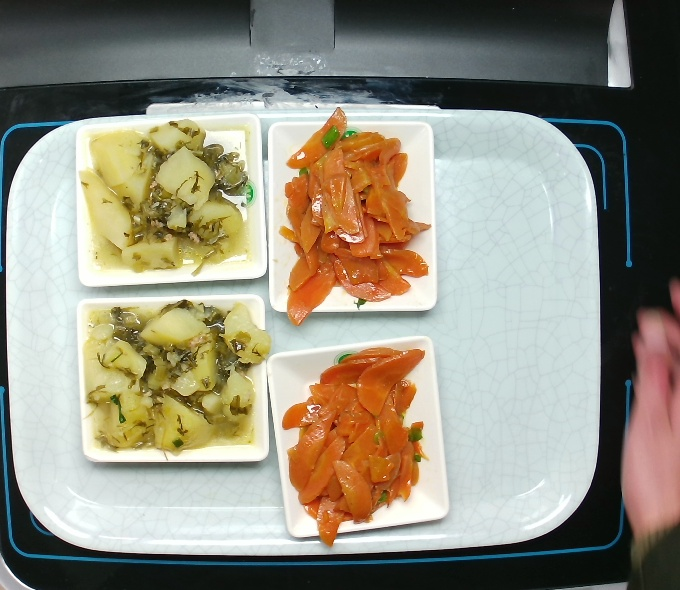wcq-HuLuoBo: (272, 107, 434, 327), (278, 340, 435, 537)
wcq-XueCaiTuDou: (74, 291, 280, 459), (75, 112, 259, 275)
